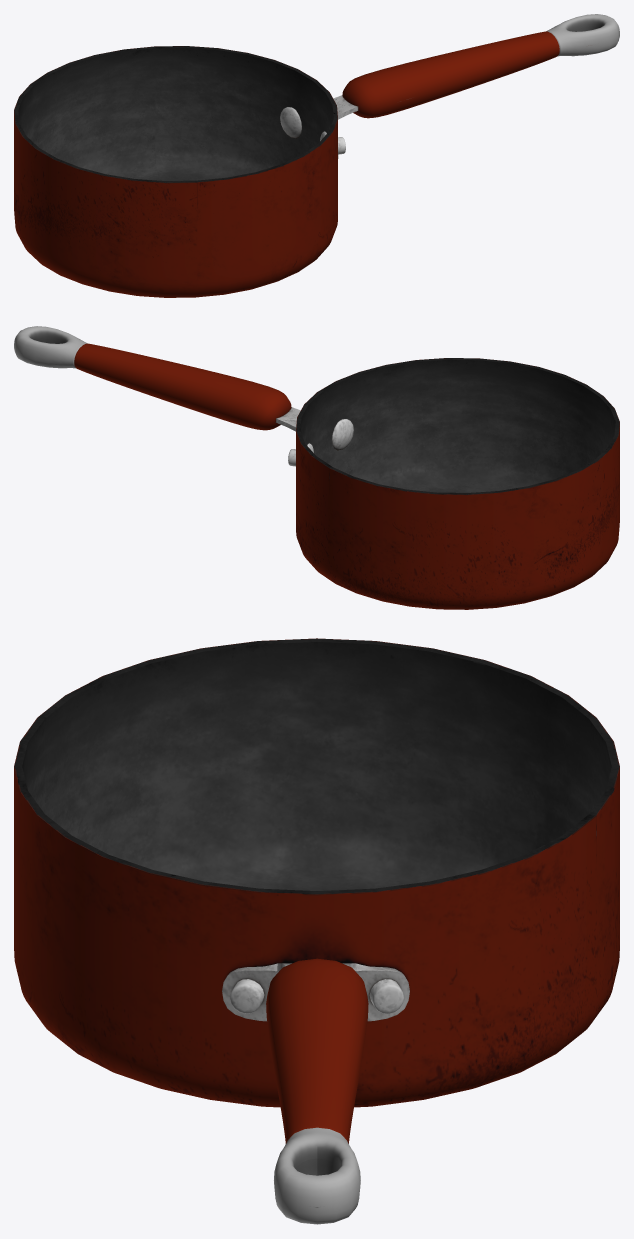
3 renders of one model, top to bottom at view 1: azimuth 30°, elevation 25°; view 2: azimuth 150°, elevation 25°; view 3: azimuth 270°, elevation 25°, orthographic. The views are drawn at different scales.
Visible parts, largest first — view 1: OllitaLow; view 2: OllitaLow; view 3: OllitaLow.
Boxes of the visible parts, left/top/right/bottom form: OllitaLow: left=14, top=14, right=619, bottom=297; OllitaLow: left=14, top=326, right=619, bottom=609; OllitaLow: left=14, top=638, right=619, bottom=1224.
Bounding box in the file's own units: 3.83 × 0.7798 × 1.85.
Materials: 1 (1 with a texture image).
